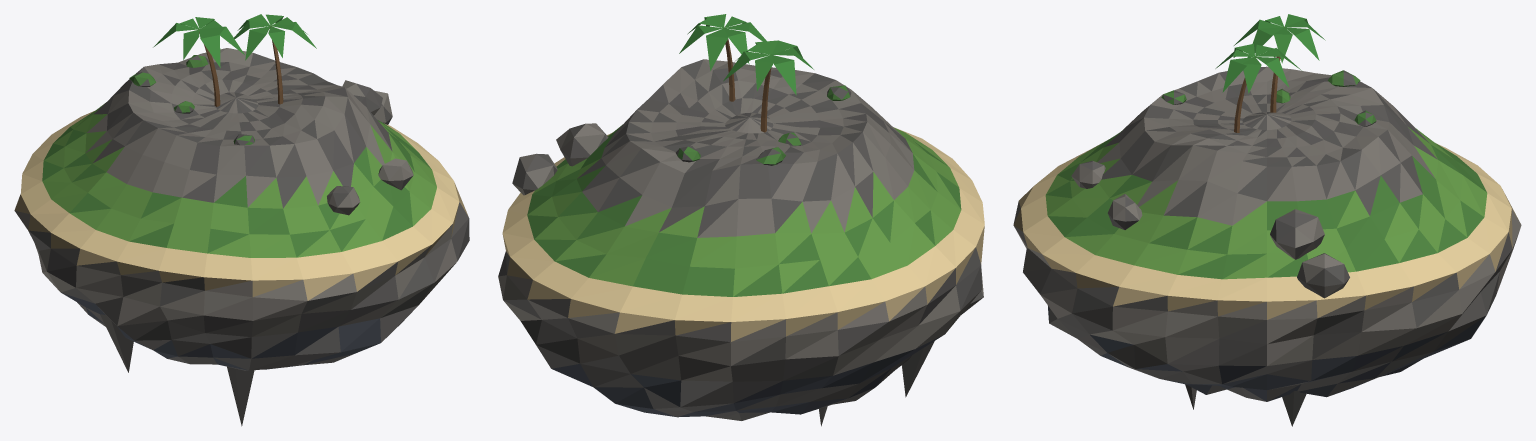
File: island_mesa.obj
The picture shows the model from 3 angles, left to right: view 1: azimuth 30°, elevation 25°; view 2: azimuth 150°, elevation 25°; view 3: azimuth 270°, elevation 25°; orthographic projection. The views are drawn at different scales.
Visible parts, largest first — view 1: island_mesa; view 2: island_mesa; view 3: island_mesa.
Part boxes in pixels (left/top/right/bottom): island_mesa: left=14, top=14, right=469, bottom=426; island_mesa: left=498, top=14, right=984, bottom=426; island_mesa: left=1013, top=14, right=1521, bottom=426.
Bounding box in the file's own units: 19.7 × 18.41 × 21.98.
1 material, 1 textured.
